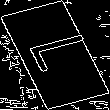L_E: (14, 32, 96, 78)
